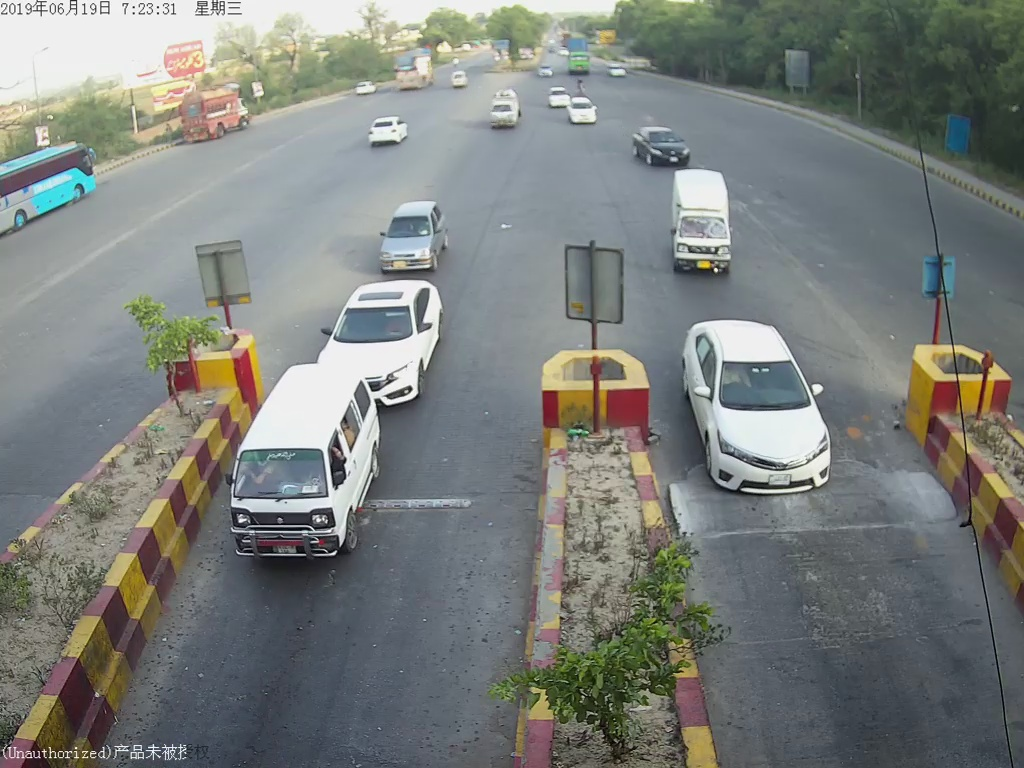Cat-1: (224, 366, 381, 566), (677, 317, 843, 502), (326, 278, 445, 374), (671, 171, 740, 279), (381, 209, 441, 267)
